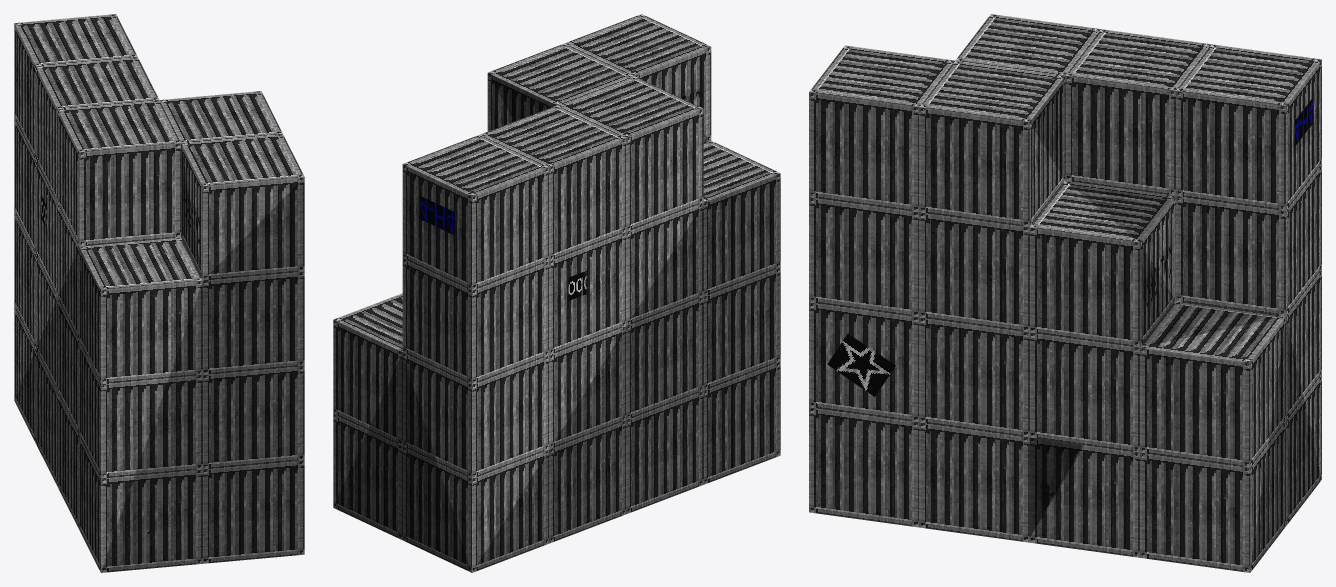
File: primary_103.glb
3 views of the same model, side by side, from view 1: azimuth 30°, elevation 25°; view 2: azimuth 150°, elevation 25°; view 3: azimuth 270°, elevation 25° (orthographic). The views are drawn at different scales.
Visible parts, largest first — view 1: Object; view 2: Object; view 3: Object.
Part boxes in pixels (x1,y1,x2,y2): Object: [14, 14, 304, 572]; Object: [333, 14, 780, 572]; Object: [809, 14, 1321, 572].
Bounding box in the file's own units: 4.35 × 5.54 × 6.13.
Materials: 8 (8 with a texture image).
